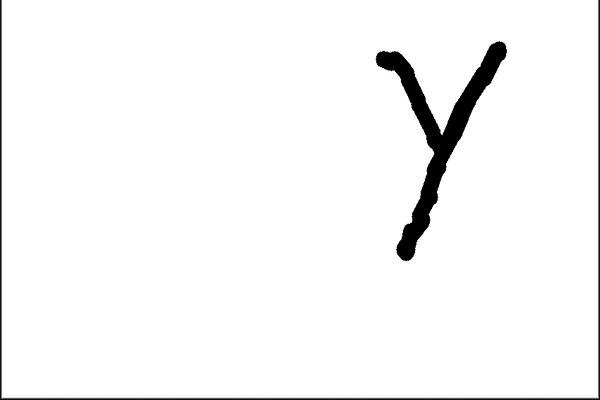Y: (362, 34, 517, 270)
